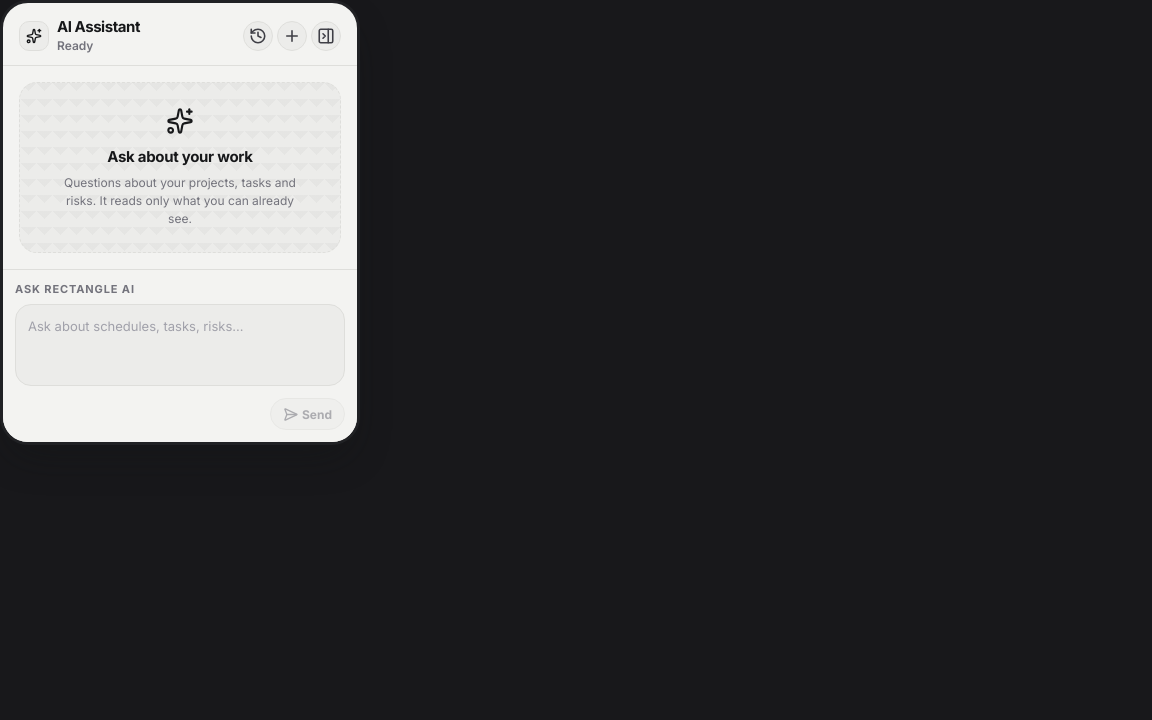
Scenario: AiAssistantPanel: page context and history › searches the list by title, and says so when nothing matches
The image size is (1152, 720).
expect the text "Ready" is shown: met, box [57,38,93,52]
Click the button named "Past conversations" at (258, 36), box [243,21,273,51]
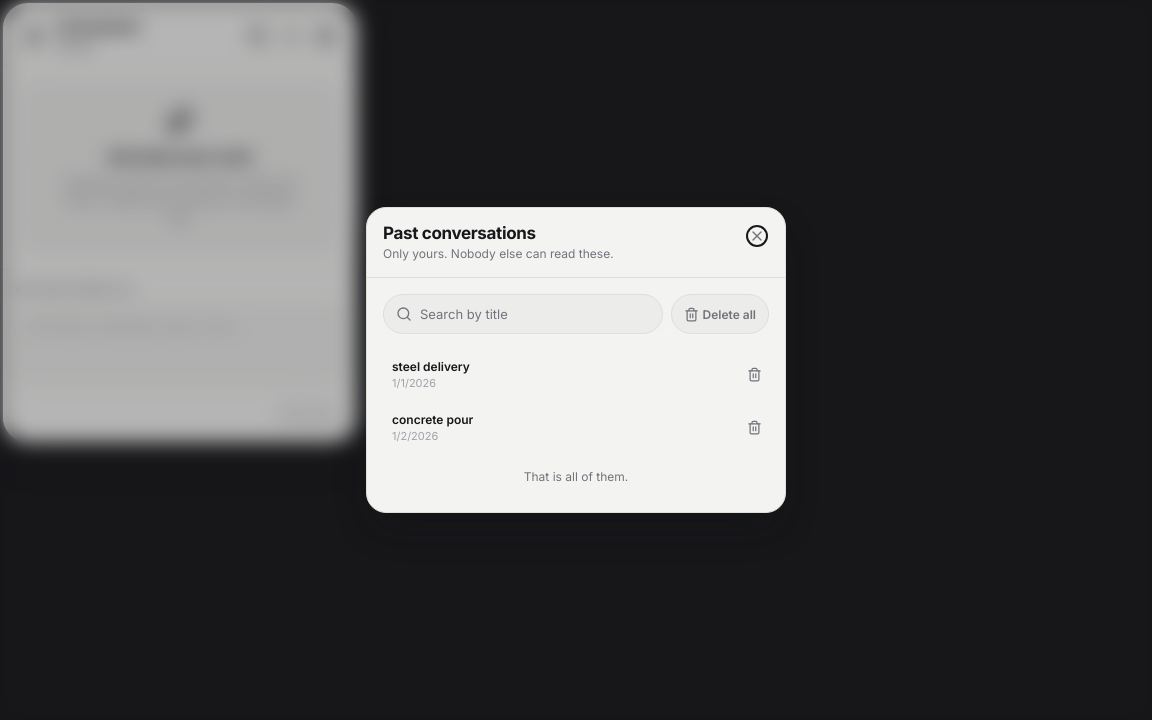
expect the text "steel delivery" is shown: met, box [392,359,470,374]
Type "concrete" into the field named "Search your conversations" at (535, 314), box [420,306,650,322]
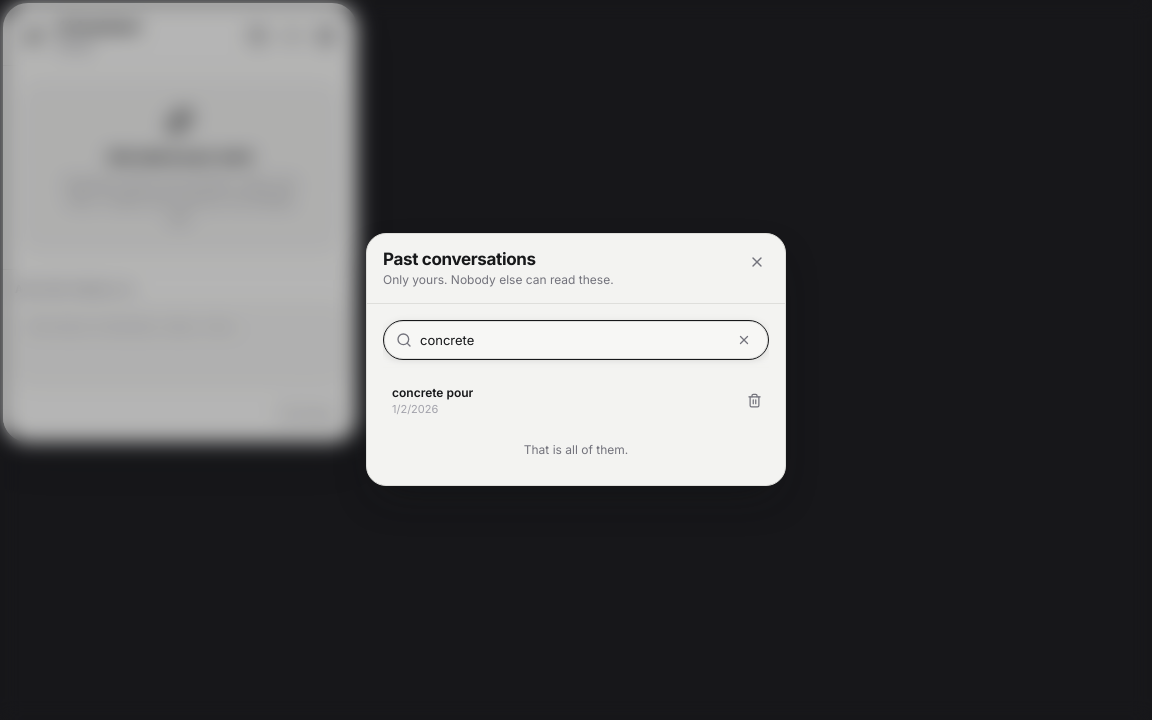
expect the text "concrete pour" is shown: met, box [392,386,473,401]
expect the button "steel delivery" is gone: met
Clear the field named "Search your conversations" at (572, 341), box [420,333,724,349]
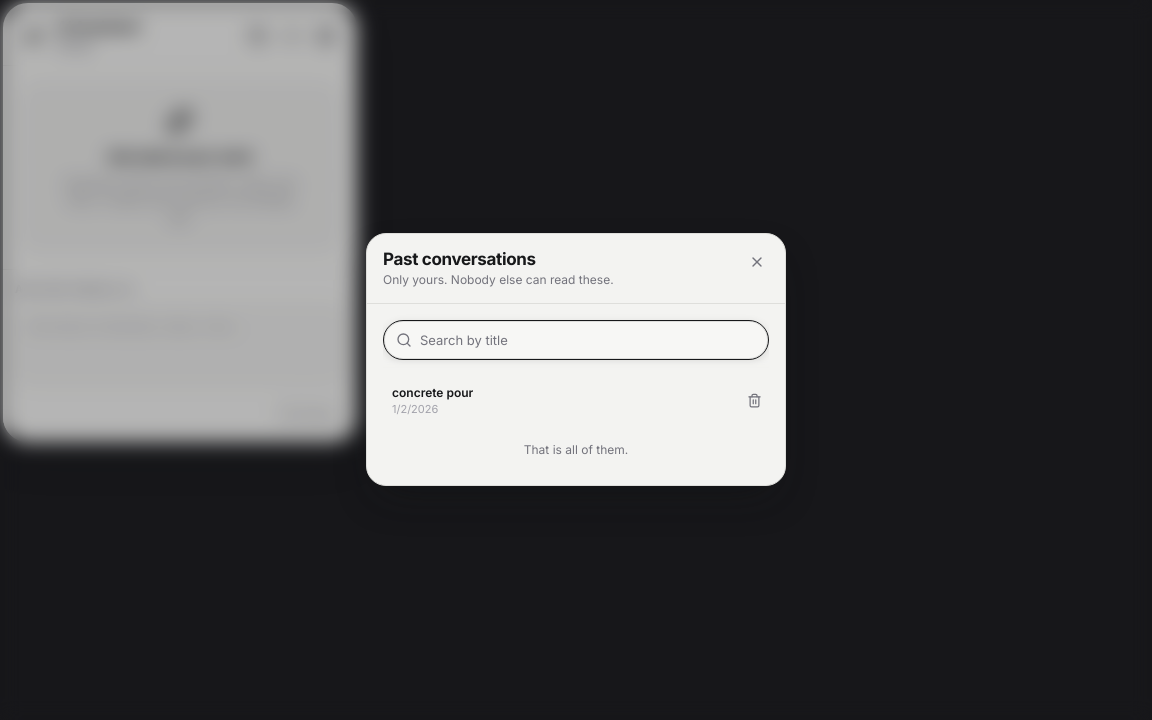
Type "scaffolding" into the field named "Search your conversations" at (588, 341), box [420,333,756,349]
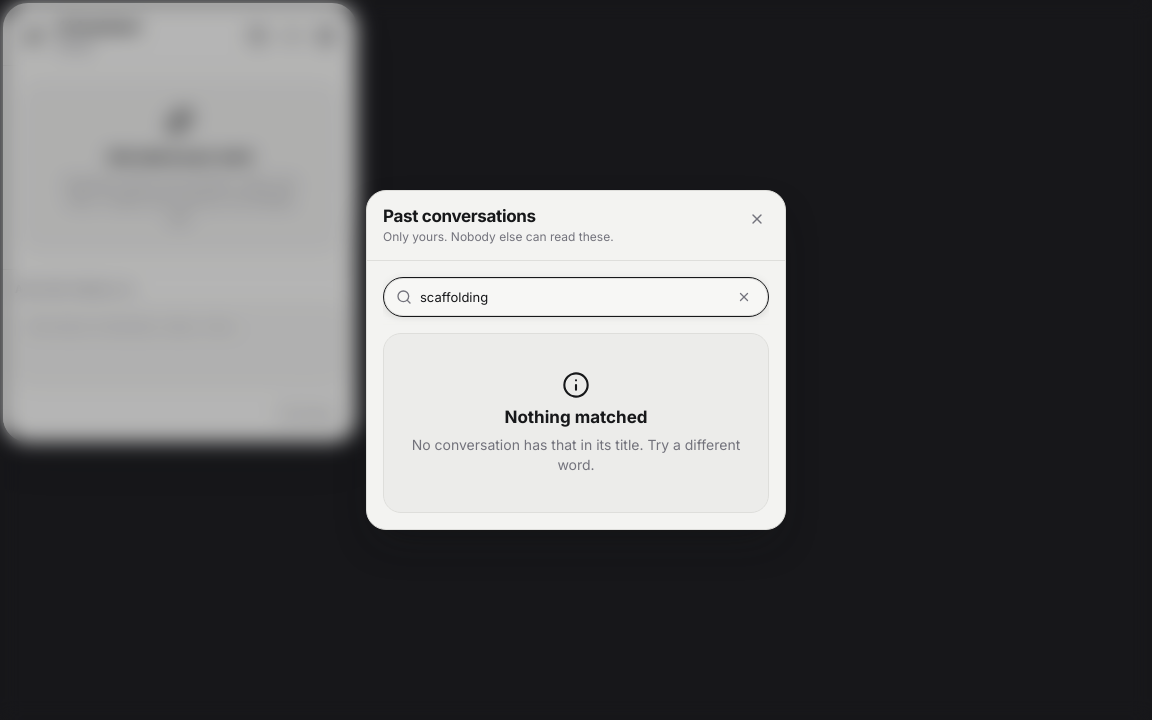
expect the text "Nothing matched" is shown: met, box [504,407,648,427]
